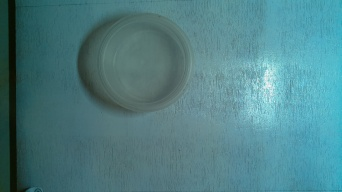f: (94, 10, 197, 114)
